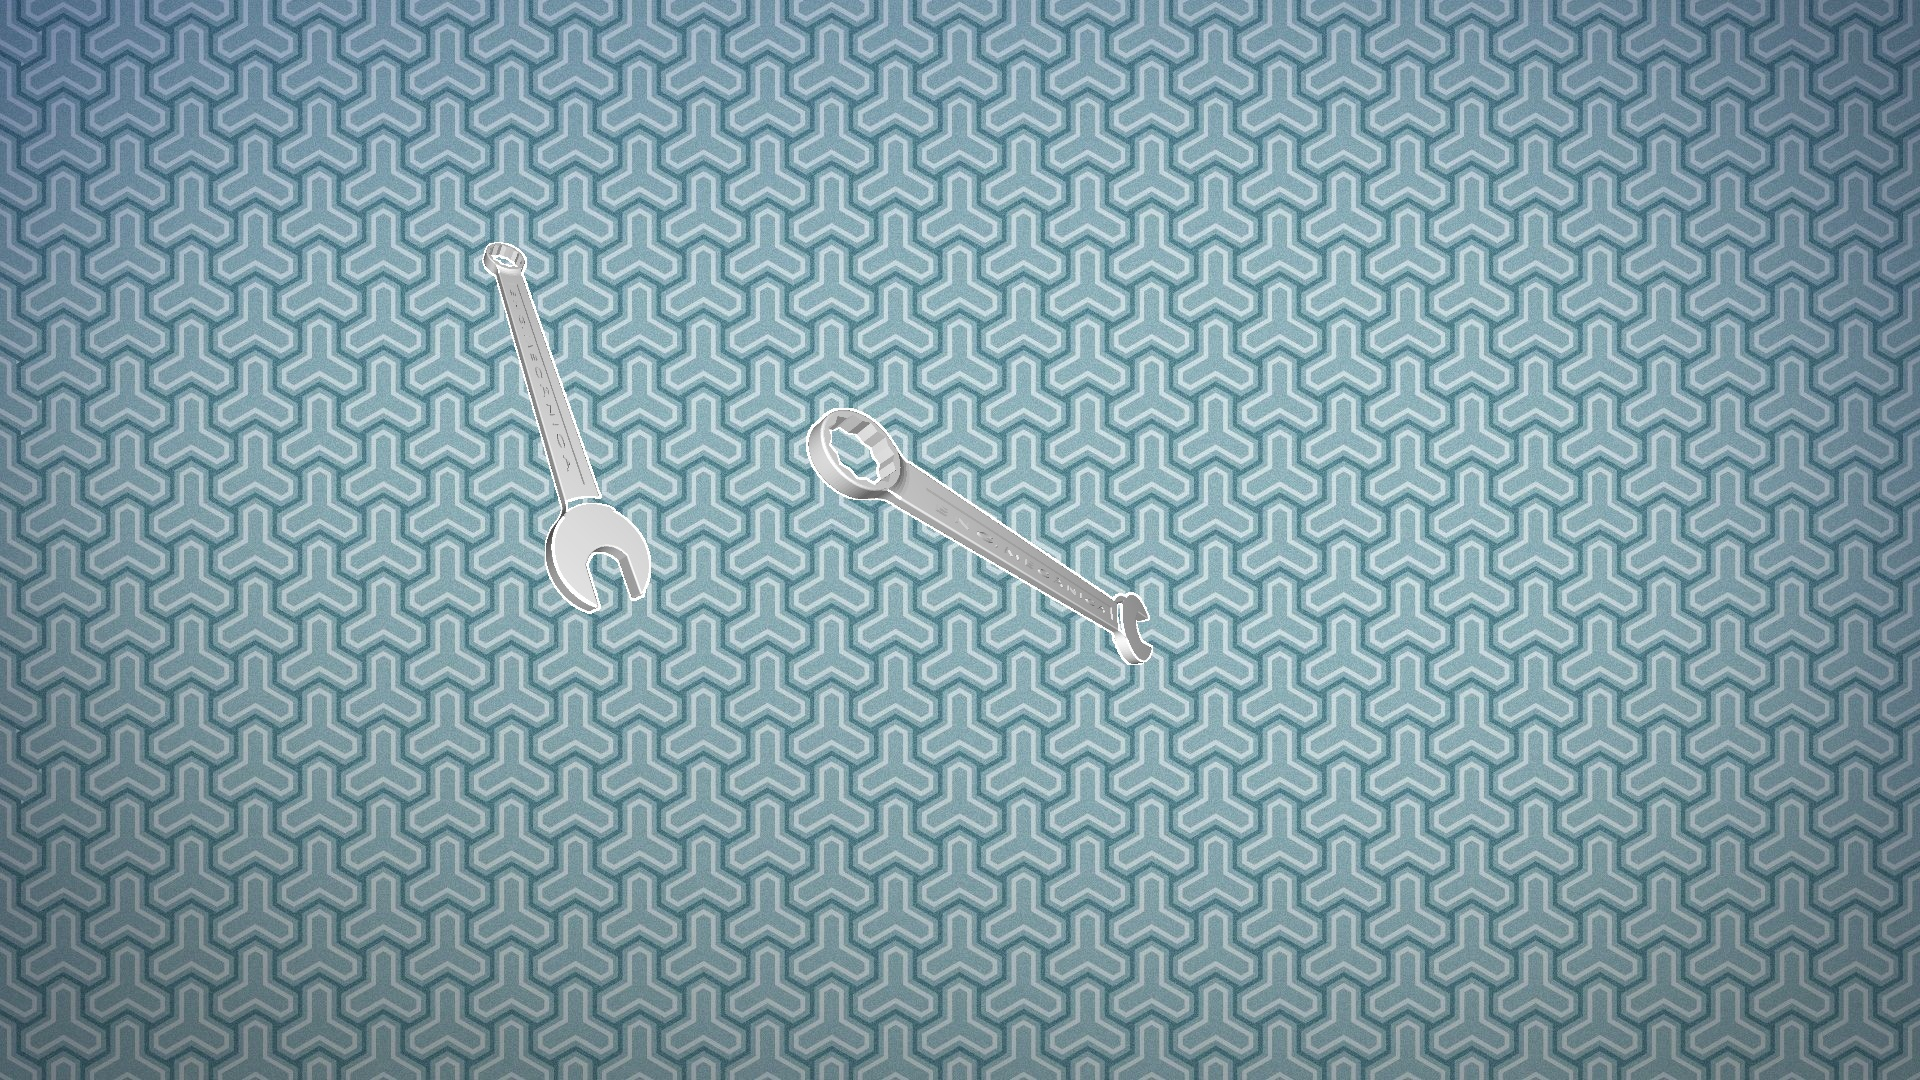Mixed Key: (806, 407, 1153, 665), (483, 243, 650, 613)
